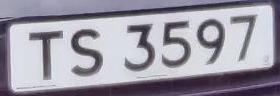3: (119, 16, 161, 76)
5: (155, 15, 196, 75)
7: (225, 10, 262, 64)
9: (190, 13, 230, 70)
S: (66, 19, 111, 83)
T: (24, 22, 71, 85)
